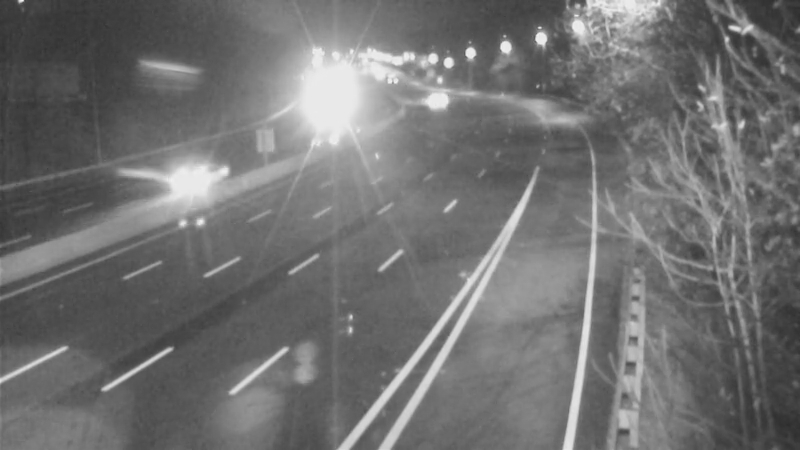vehicle: (152, 141, 232, 221), (363, 56, 413, 106), (407, 73, 457, 123)
